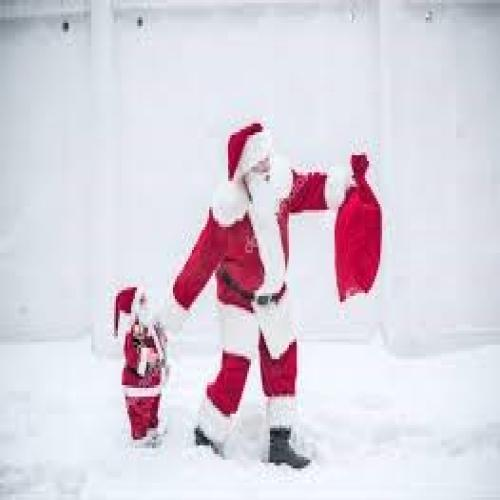Santa: (169, 118, 355, 471)
